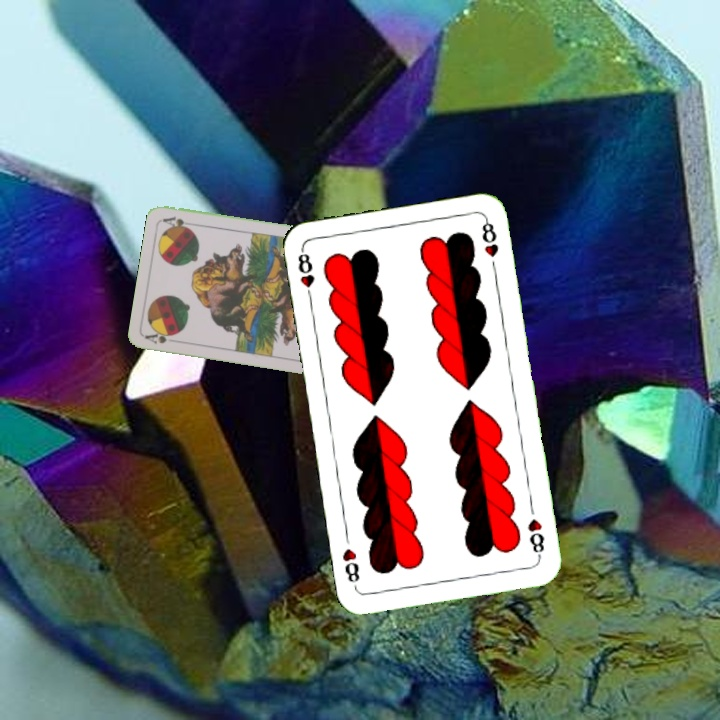H8: (294, 245, 317, 304), (524, 514, 547, 561)
SA: (142, 326, 183, 347)
